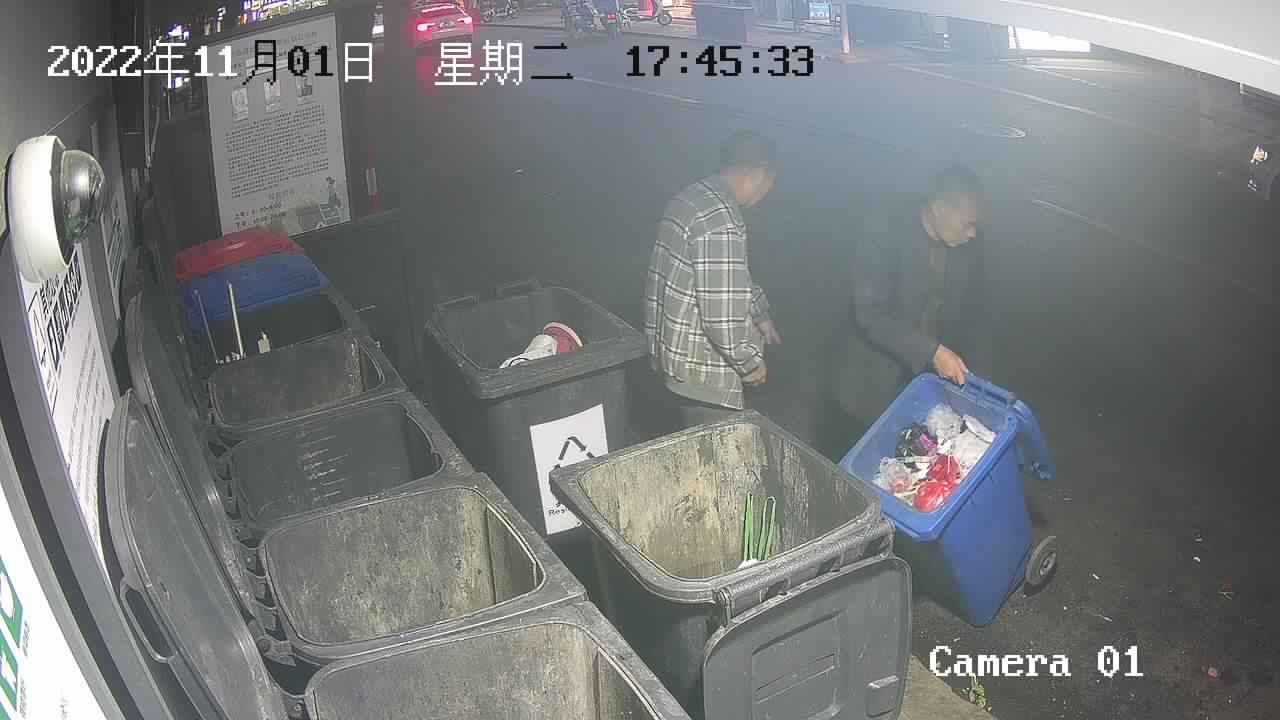person: (824, 162, 987, 461), (641, 127, 785, 430)
